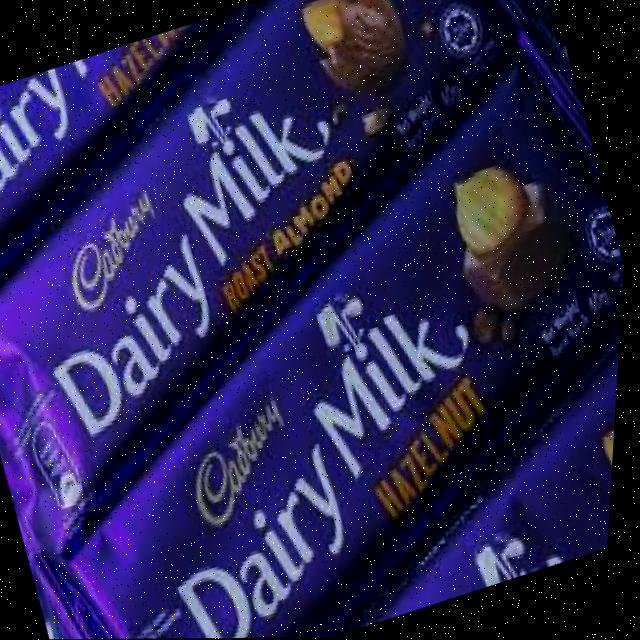cadbury_chocolate: (147, 90, 570, 640), (24, 12, 508, 485), (491, 378, 619, 640), (0, 38, 181, 200)
